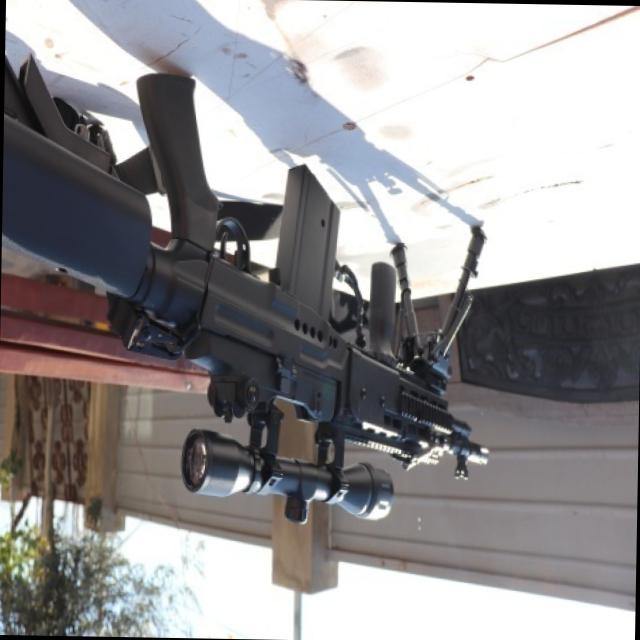Gun: (0, 23, 505, 514)
